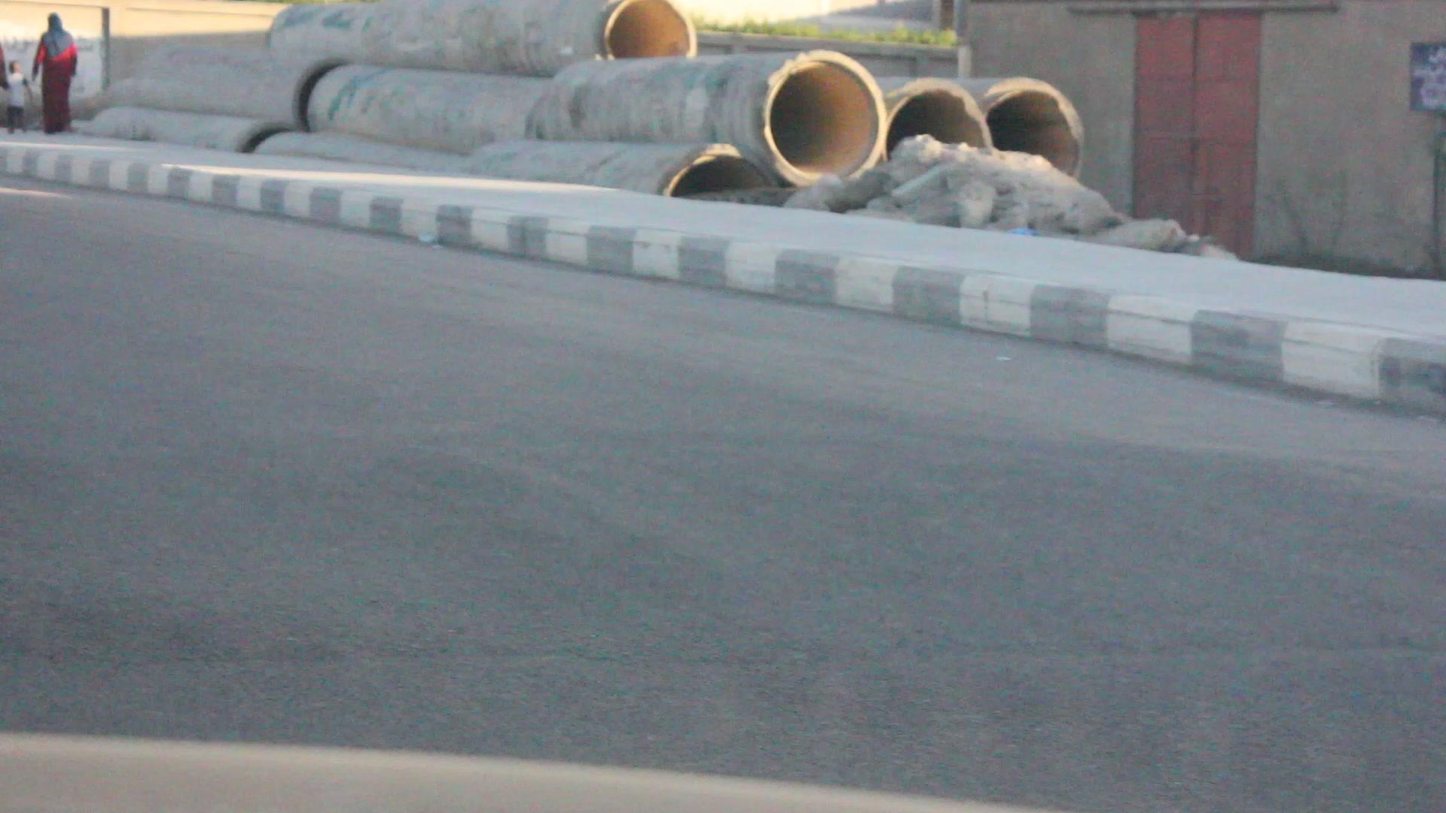Bump: (6, 423, 1442, 653)
